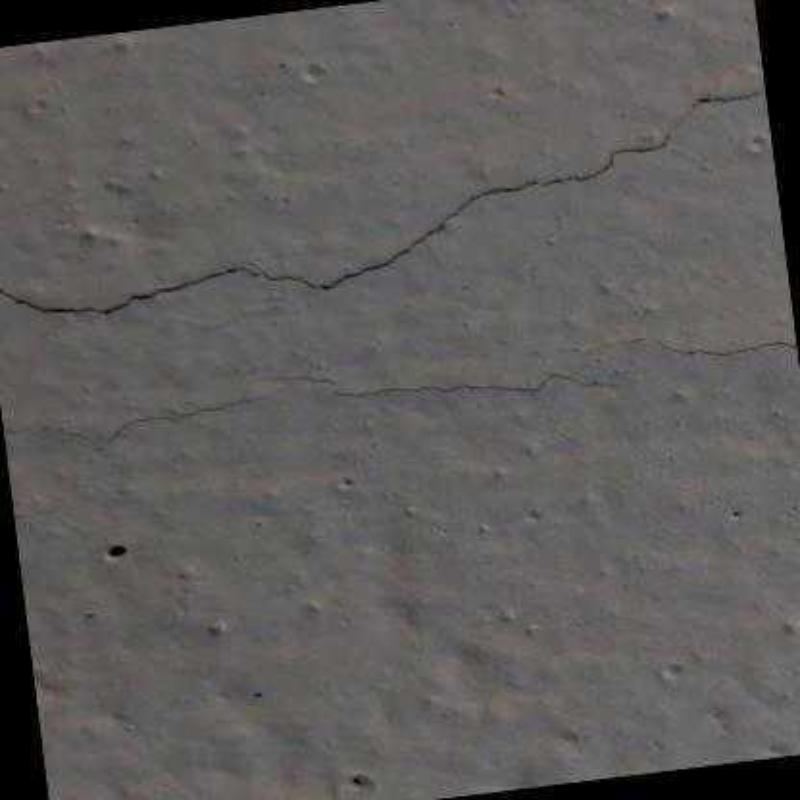crack: (0, 79, 765, 320)
